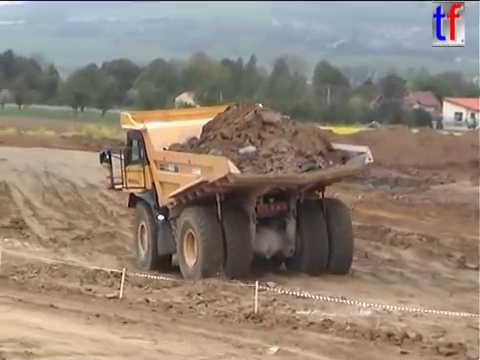truck: (96, 100, 376, 284)
